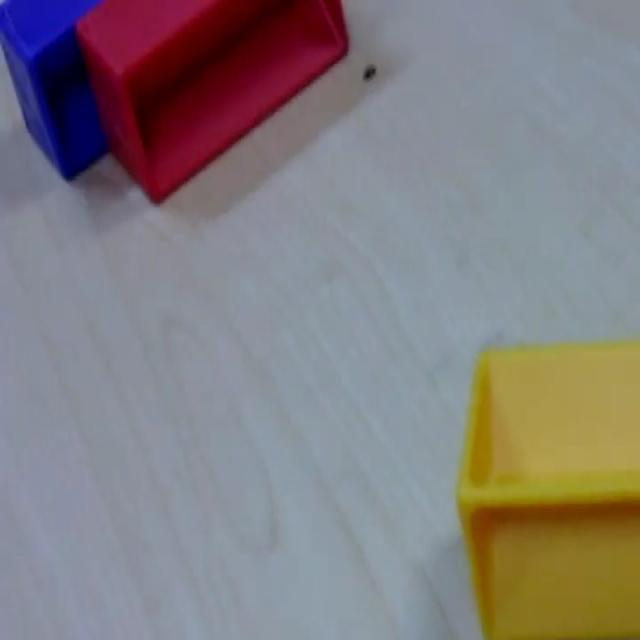red_block: (73, 0, 350, 204)
yellow_block: (456, 336, 638, 636)
